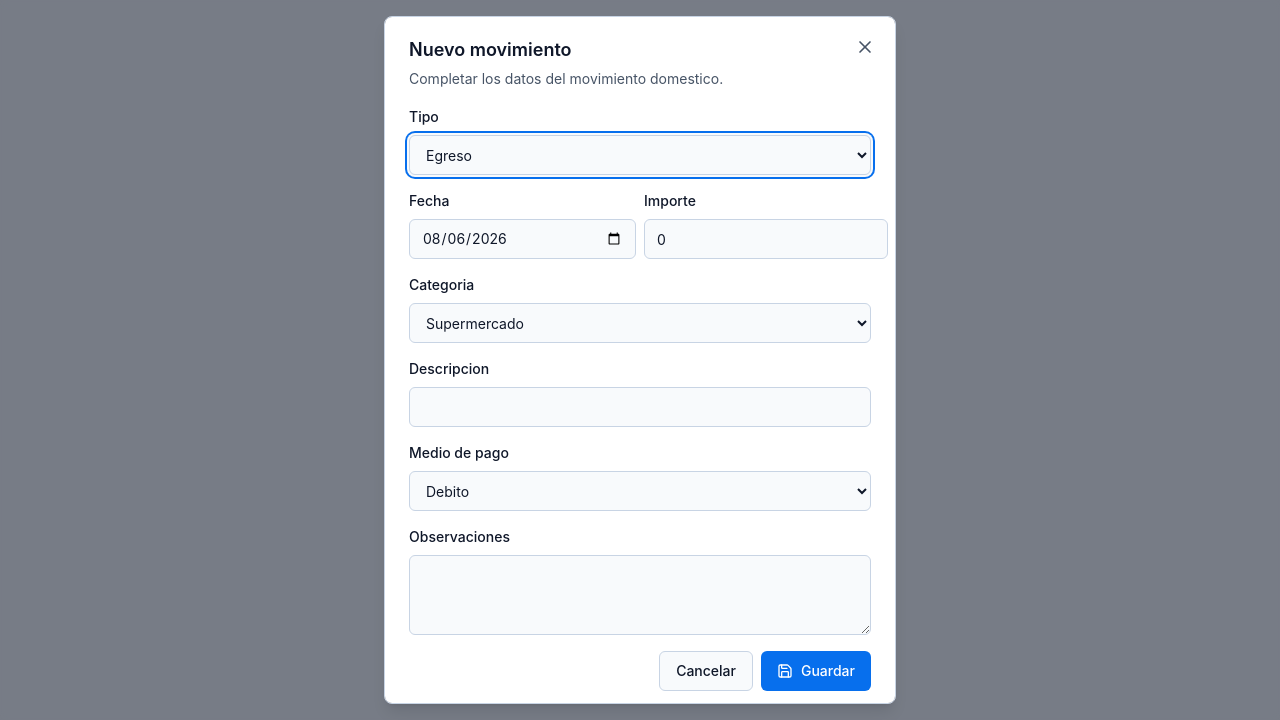
Test case: TransactionFormDialog › TransactionFormDialog_WhenPersistenceFails_ShouldStayOpenWithFeedback
The width and height of the screenshot is (1280, 720).
Type "2026-08-05" into the date field labelled "Fecha". click: {"x": 522, "y": 239}
box: [409,219,636,259]
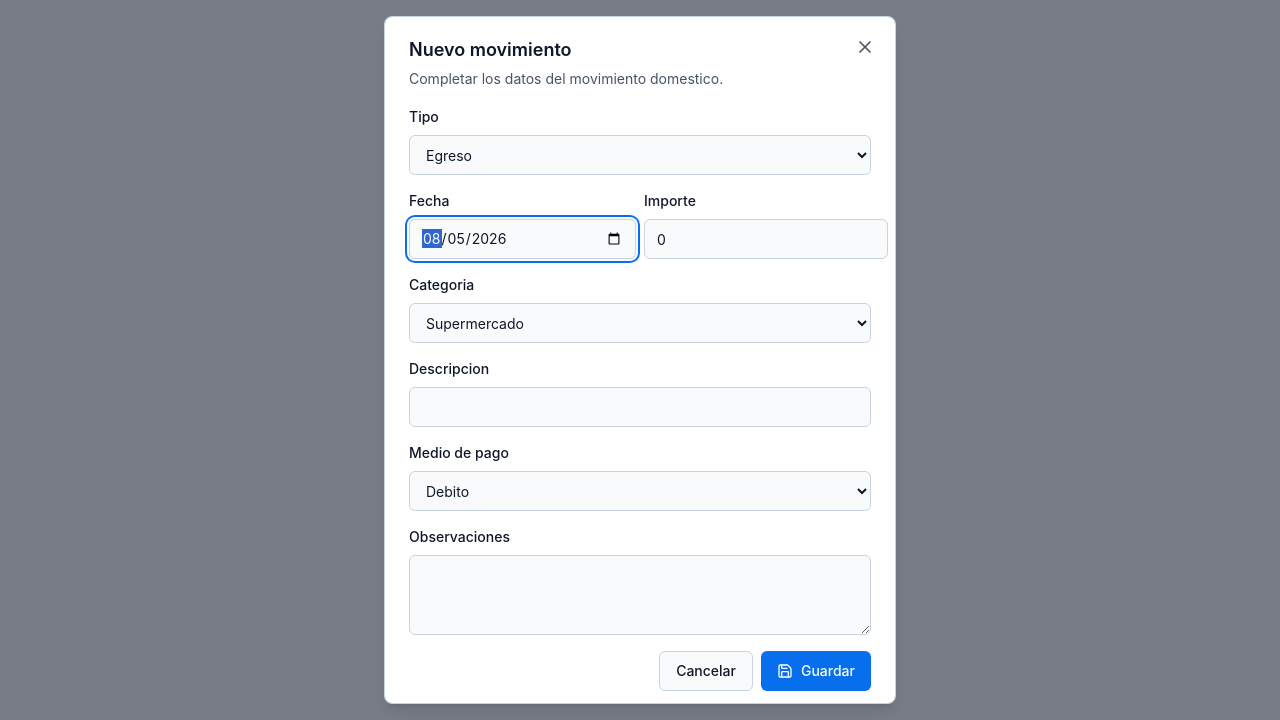
Replace the text in the number field labelled "Importe" with "250.75". click: {"x": 766, "y": 239}
box: [644,219,888,259]
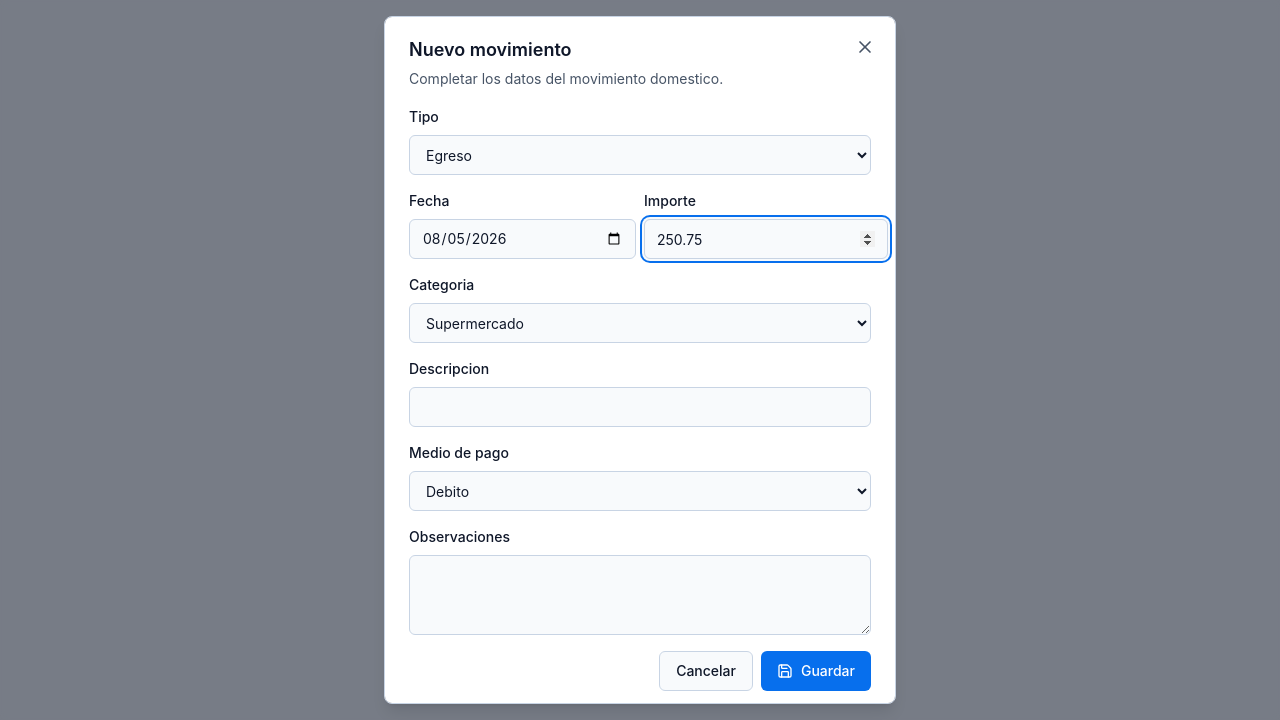
Select "Supermercado" in the dropdown labelled "Categoria". click: {"x": 640, "y": 323}
box: [409,303,871,343]
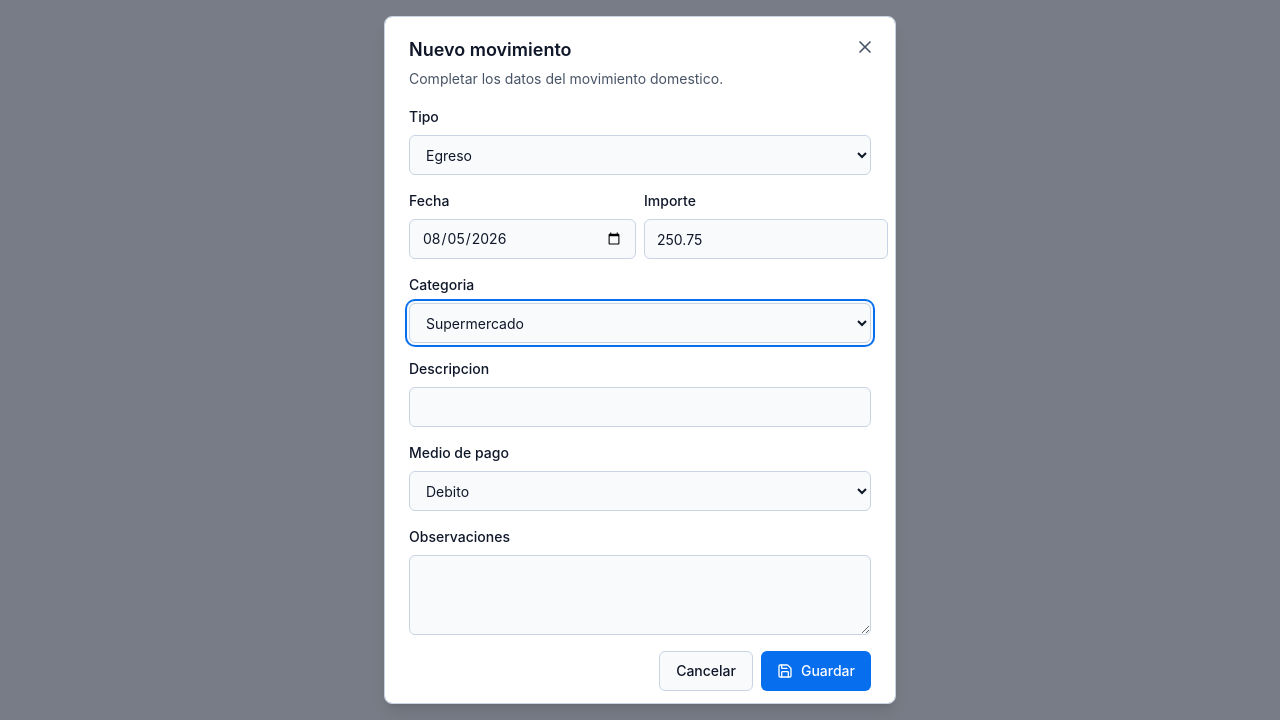
Type "Supermercado" into the field labelled "Descripcion". click: {"x": 640, "y": 407}
box: [409,387,871,427]
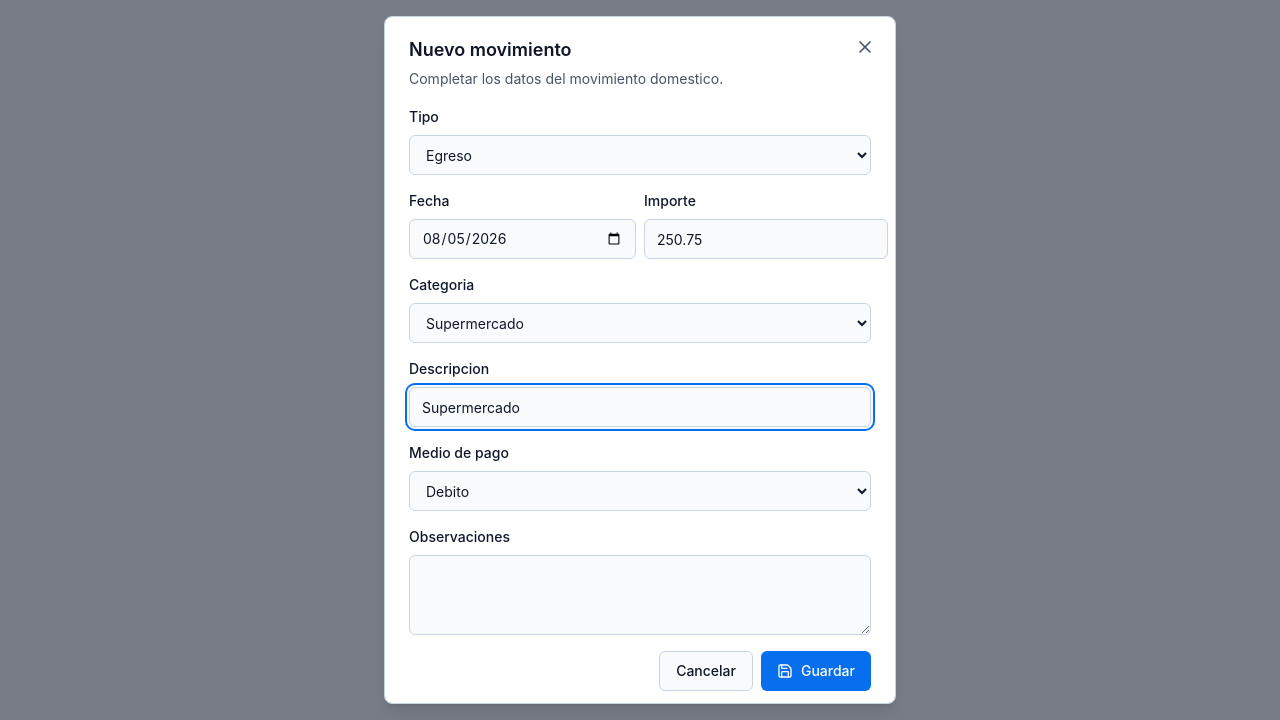
Select "Debito" in the dropdown labelled "Medio de pago". click: {"x": 640, "y": 491}
box: [409,471,871,511]
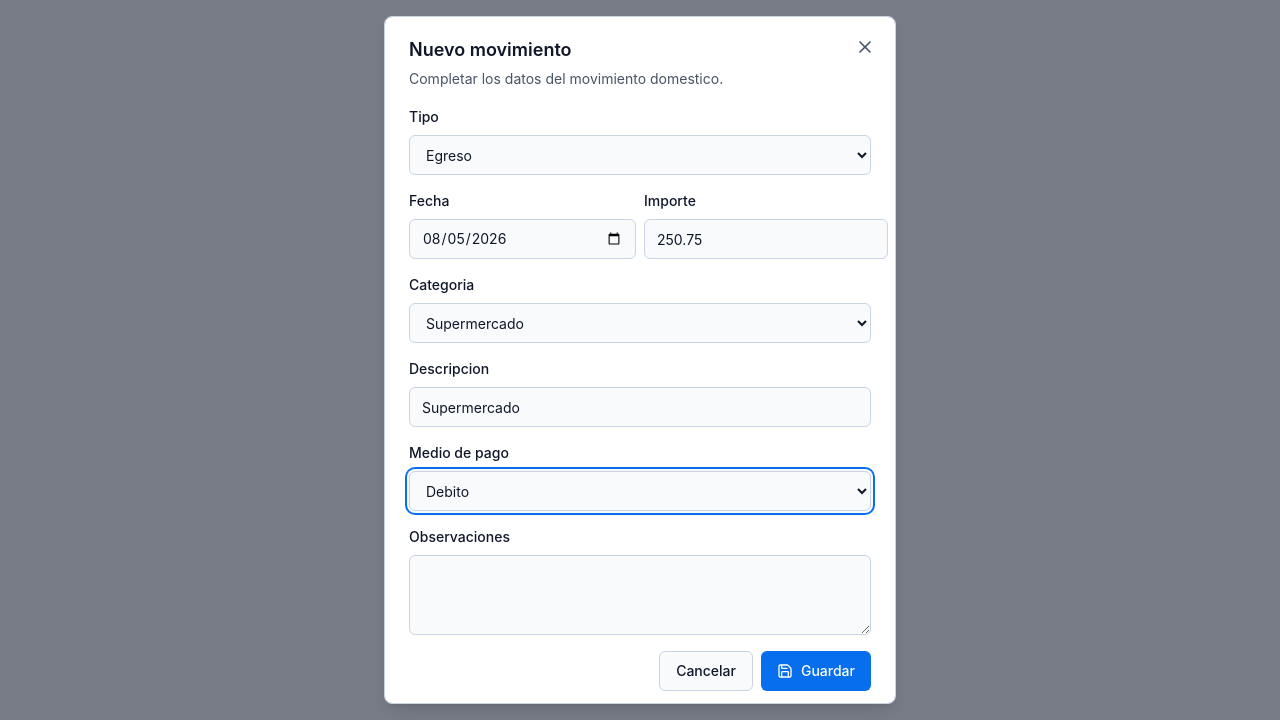
Click the button "Guardar". click: {"x": 816, "y": 671}
box: [761,651,871,691]
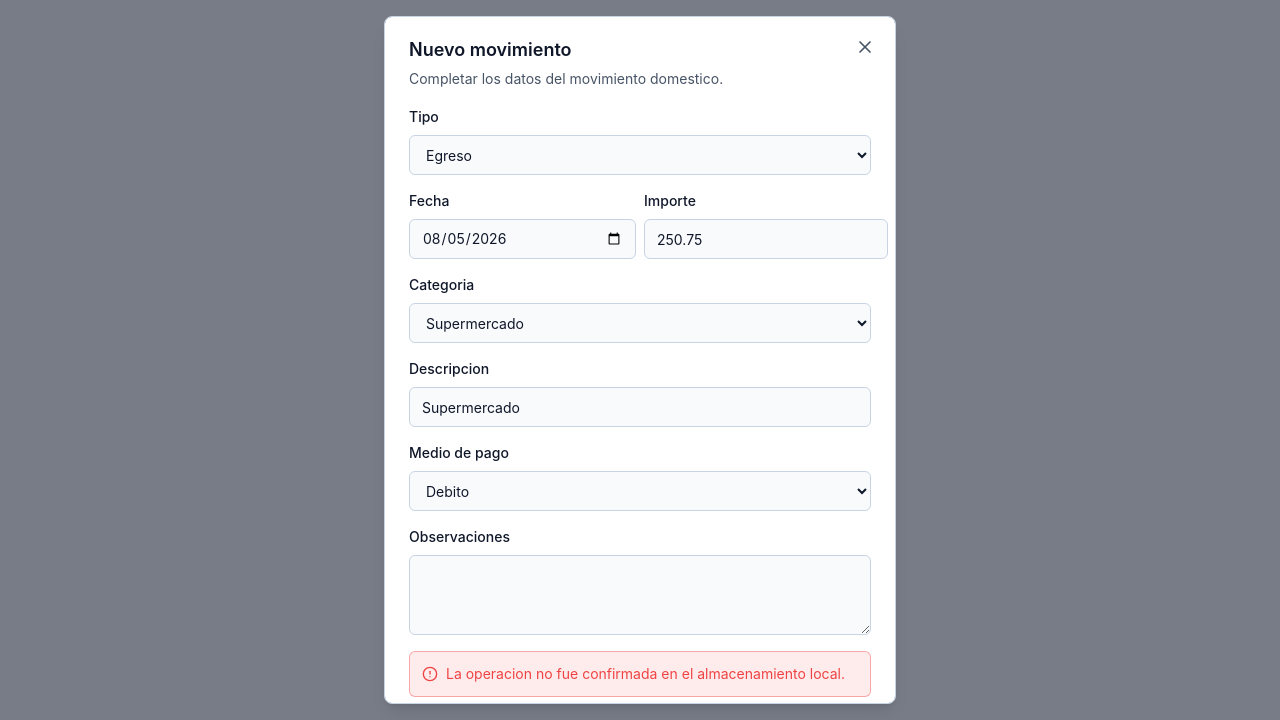
Expected: the dialog is shown, [384,16,896,704]
Expected: the message reads "La operacion no fue confirmada en el almacenamiento local.", [446,665,845,682]
